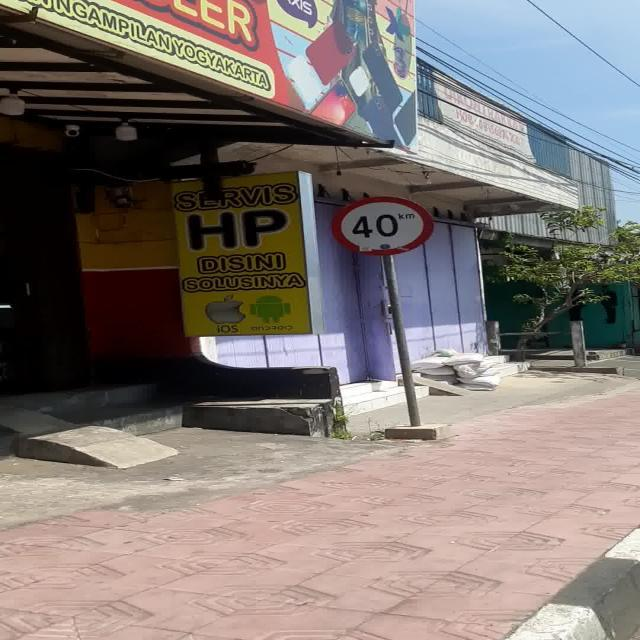Kecepatan Maks. 40 km: (332, 196, 434, 256)
